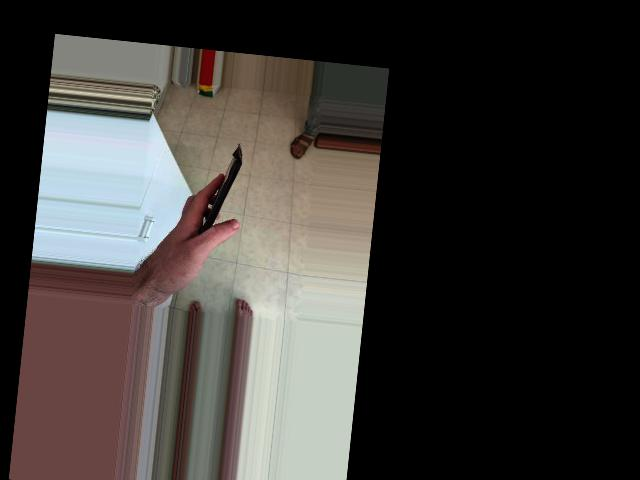chocolate: (188, 137, 253, 255)
